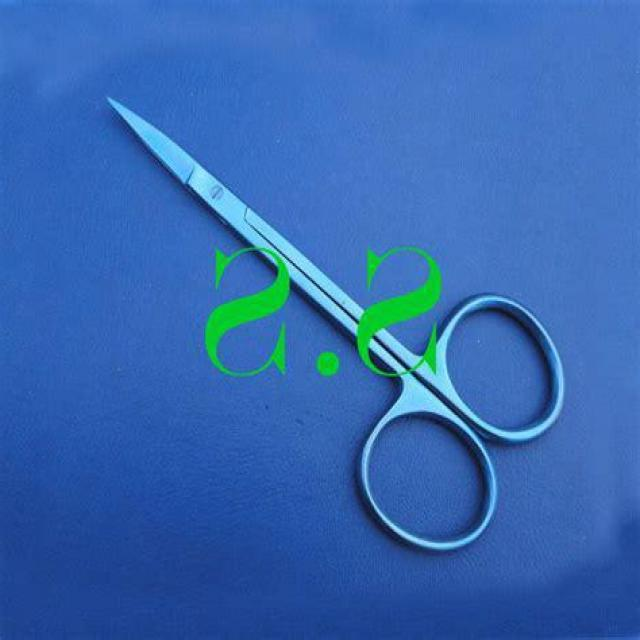Iris: (100, 91, 570, 563)
